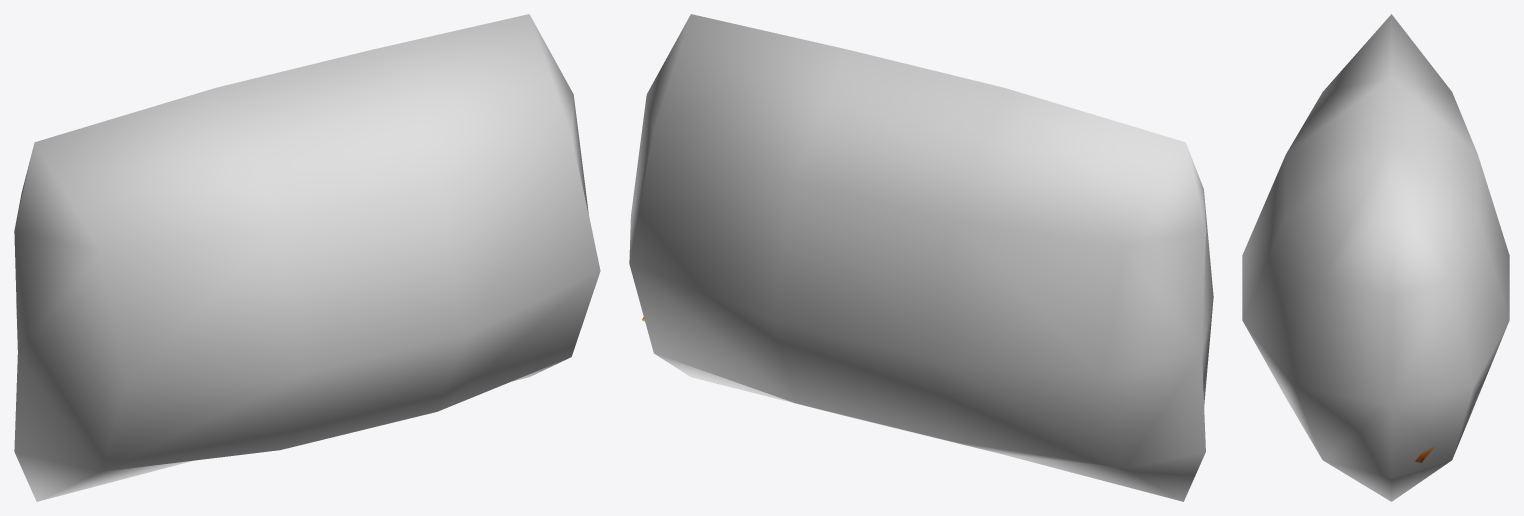
The model's file is SM_bread_croissant.fbx.
3 views of the same model, side by side, from view 1: azimuth 30°, elevation 25°; view 2: azimuth 150°, elevation 25°; view 3: azimuth 270°, elevation 25° (orthographic). The views are drawn at different scales.
Visible parts, largest first — view 1: Object32439; view 2: Object32439; view 3: Object32439.
Part boxes in pixels (<box>): Object32439: <box>14,14,600,501</box>; Object32439: <box>629,14,1213,501</box>; Object32439: <box>1242,14,1509,501</box>.
Bounding box in the file's own units: 24.87 × 15.31 × 12.24.
